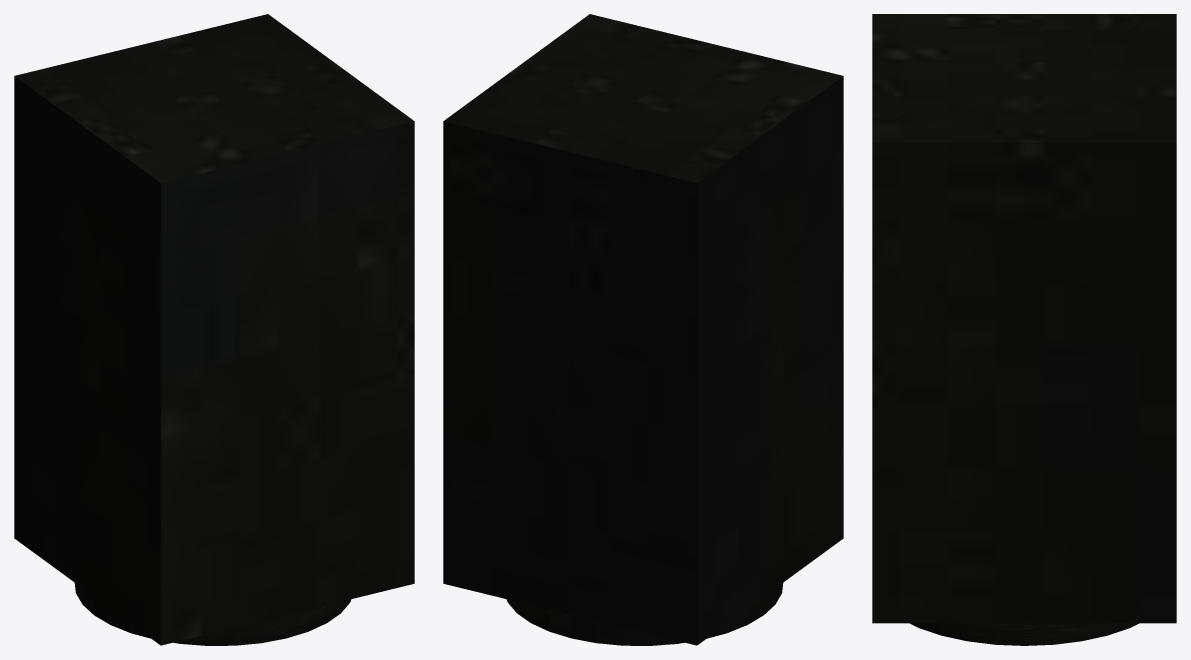
The model's file is xbox.glb.
3 renders of one model, left to right at view 1: azimuth 30°, elevation 25°; view 2: azimuth 150°, elevation 25°; view 3: azimuth 270°, elevation 25°, orthographic. The views are drawn at different scales.
Visible parts, largest first — view 1: Cubo, Cilindro; view 2: Cubo, Cilindro; view 3: Cubo, Cilindro.
Part boxes in pixels (<box>): Cubo: <box>14,14,414,645</box>; Cilindro: <box>74,583,351,645</box>; Cubo: <box>443,14,843,645</box>; Cilindro: <box>506,583,783,645</box>; Cubo: <box>872,14,1176,623</box>; Cilindro: <box>910,623,1138,645</box>.
Size of the model in its own units: 2 by 3.67 by 2.
Materials: 2 (2 with a texture image).
